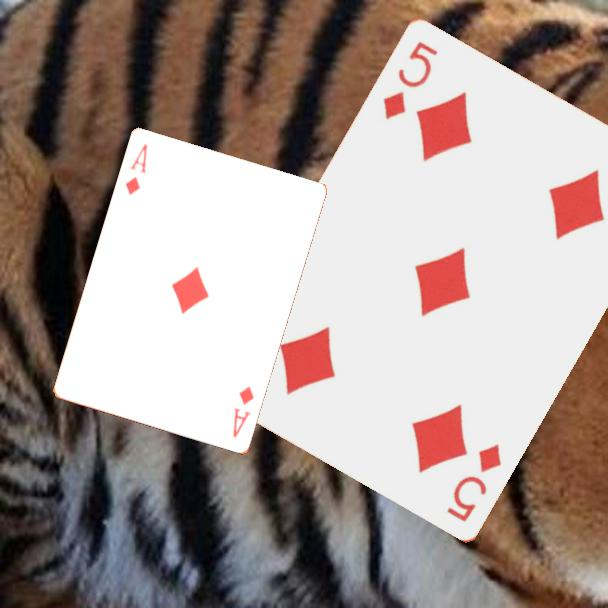d01: (229, 383, 257, 441), (122, 141, 150, 198)
d05: (379, 38, 442, 123), (443, 441, 505, 526)
